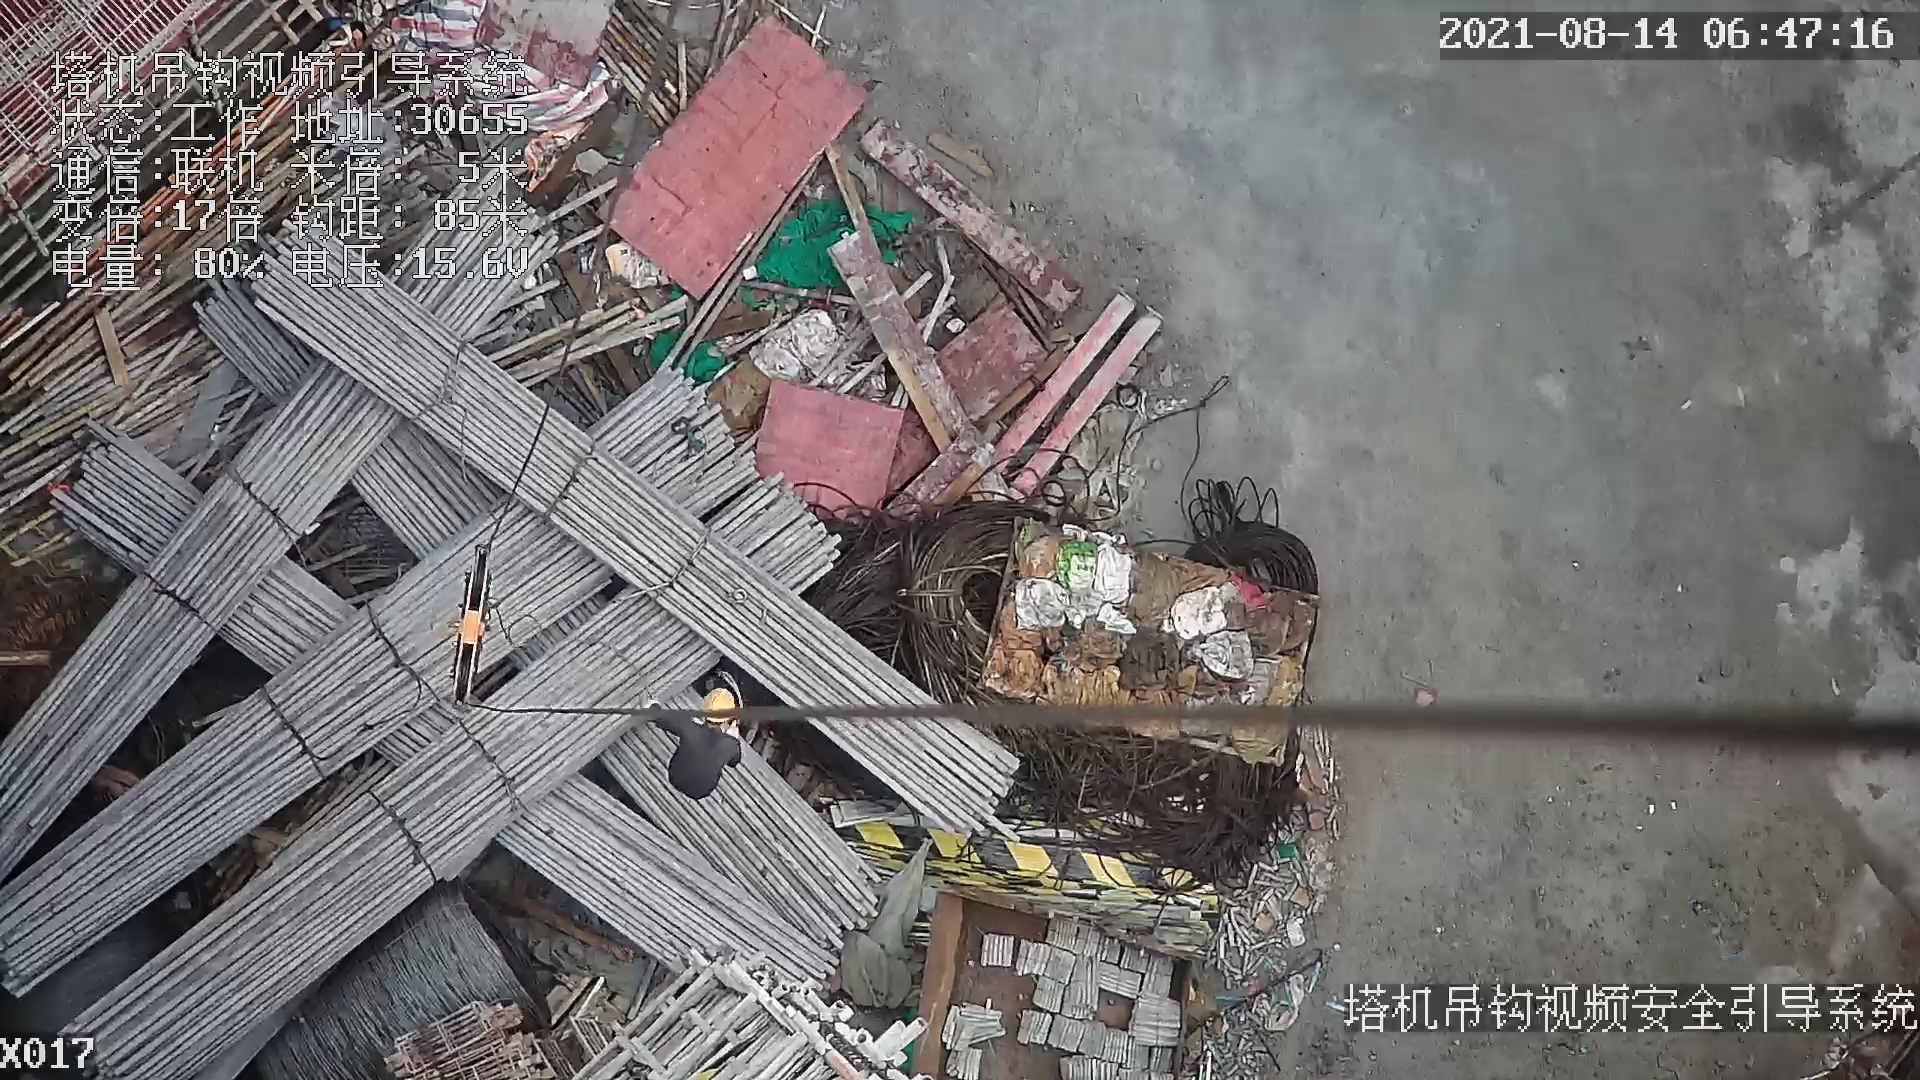board: (593, 12, 867, 294)
helmet: (703, 687, 741, 726)
hook: (444, 532, 499, 708)
person: (642, 683, 754, 803)
